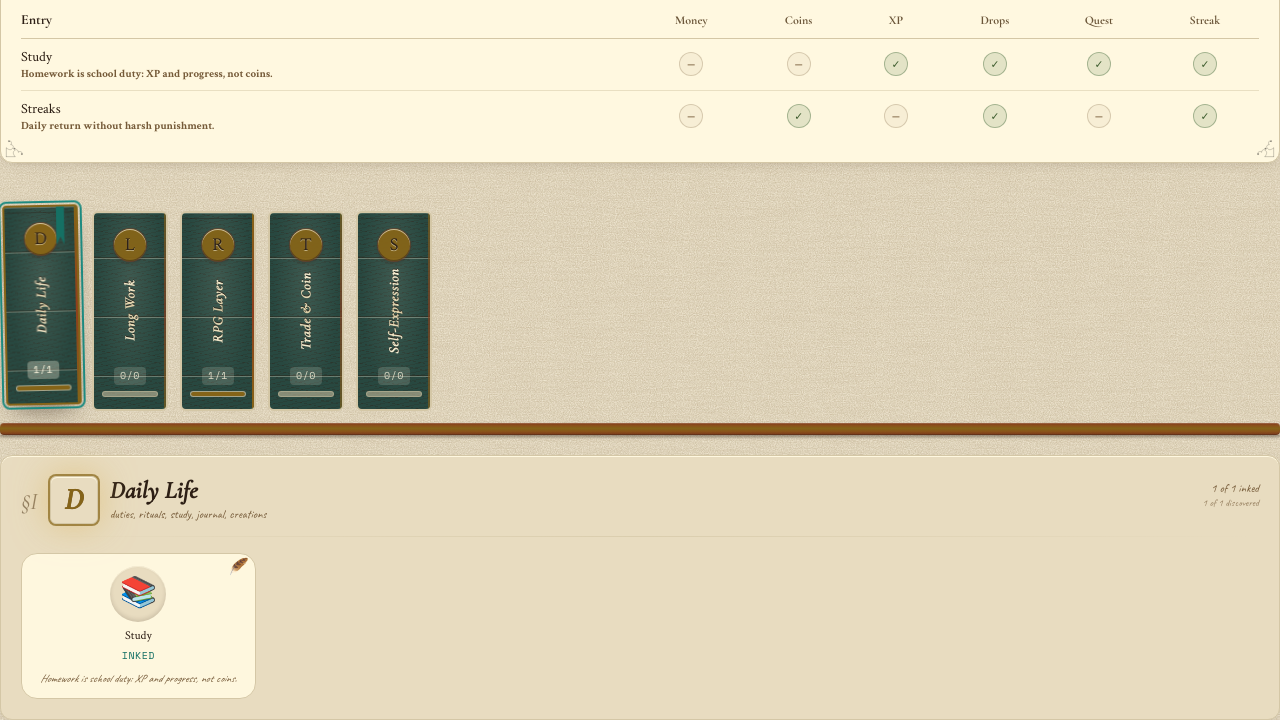
it: GuideSection › opens an entry with parent knobs expanded by default
(page scrolled)
Click the button with aria-label "study · inked" at [138, 626], box [21,552,256,699]
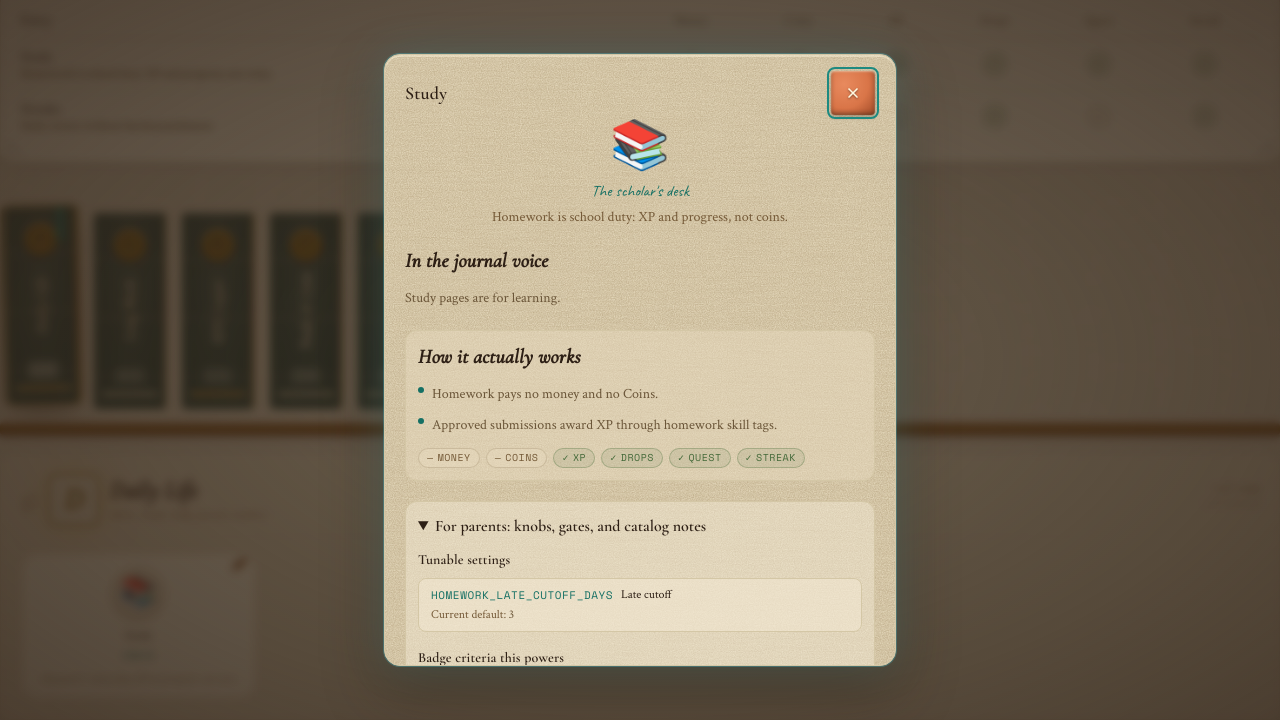
Check: the dialog "Study" is shown, box [384,54,896,666]
Check: the text "Homework pays no money and no Coins." is shown, box [432,383,658,406]
Check: the text "HOMEWORK_LATE_CUTOFF_DAYS" is shown, box [431,588,613,603]
